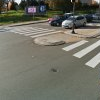crosswalk: (60, 38, 100, 68), (14, 27, 63, 38)
